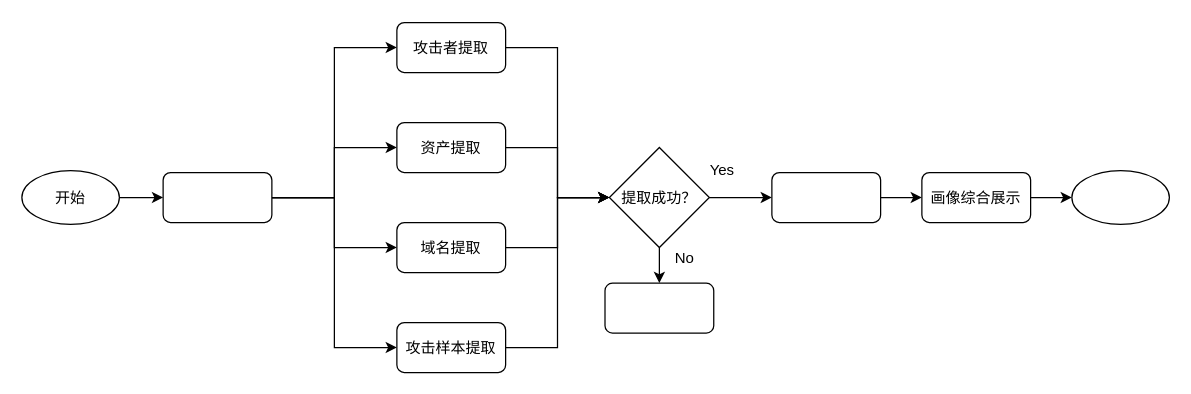
This 1191x394 diagram has some shape labels left out. The shapes that lost their labels are listed below. From the top down, each one's centre as x and y in pixels, then its label:
At [217,196]: "安全日志输入".
At [826,196]: "提取行为画像".
At [1120,196]: "结束".
At [659,307]: "跳过".
